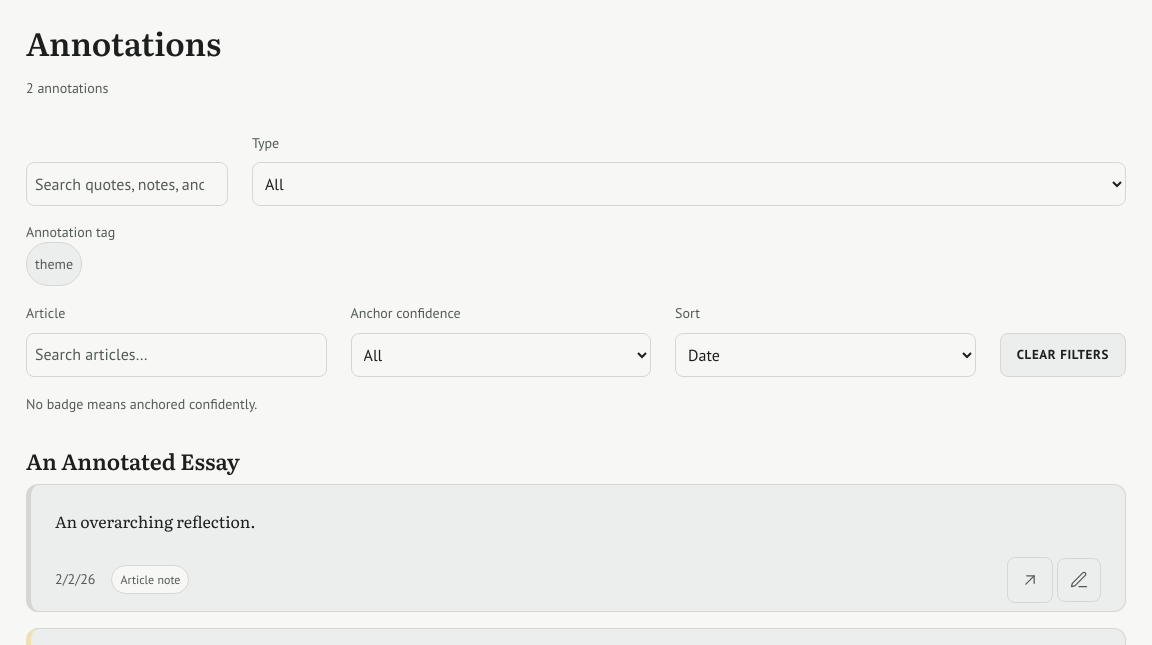
ReviewView article-note rows (issue #210) › editing opens the shared inline editor; the URL never changes; status is honest
Click the button named "Edit article note: An overarching reflection." at (1079, 580), box [1057,558,1101,602]
(page scrolled)
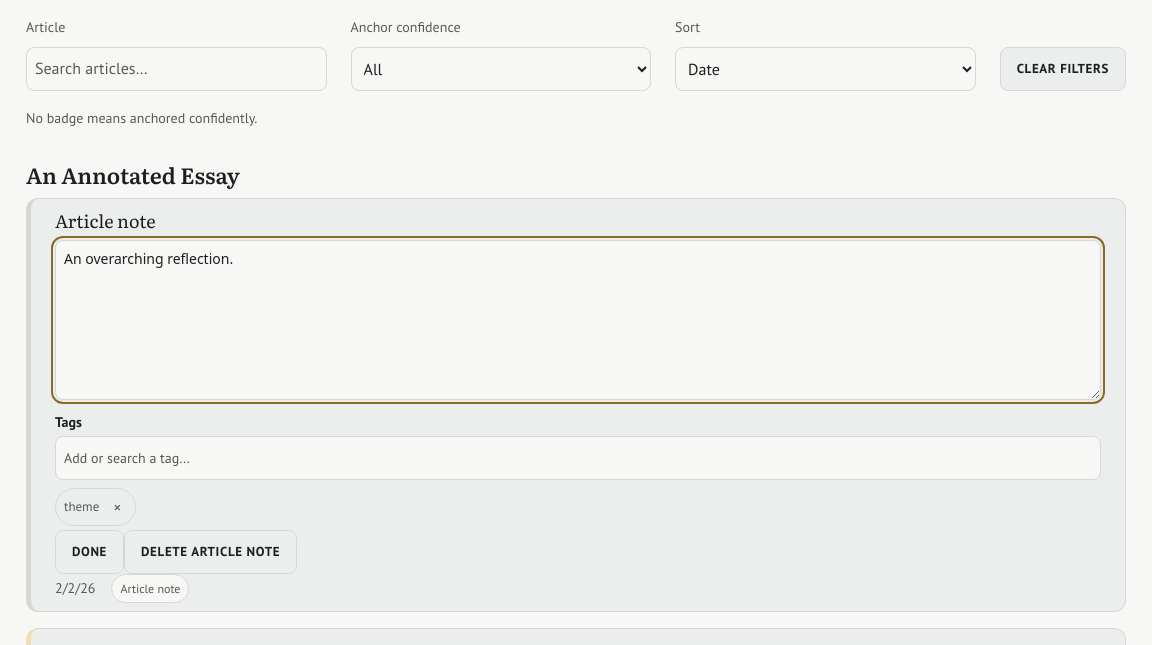
Expected: the text box labelled "Article note" holds "An overarching reflection."
Expected: the element named "Article note tags" is shown, [55,404,1101,526]
Expected: the dropdown with id "article-note-tags-input" is shown, [55,436,1101,480]
Type " More." into the text box labelled "Article note" at (578, 320), box [55,240,1101,400]
(page scrolled)
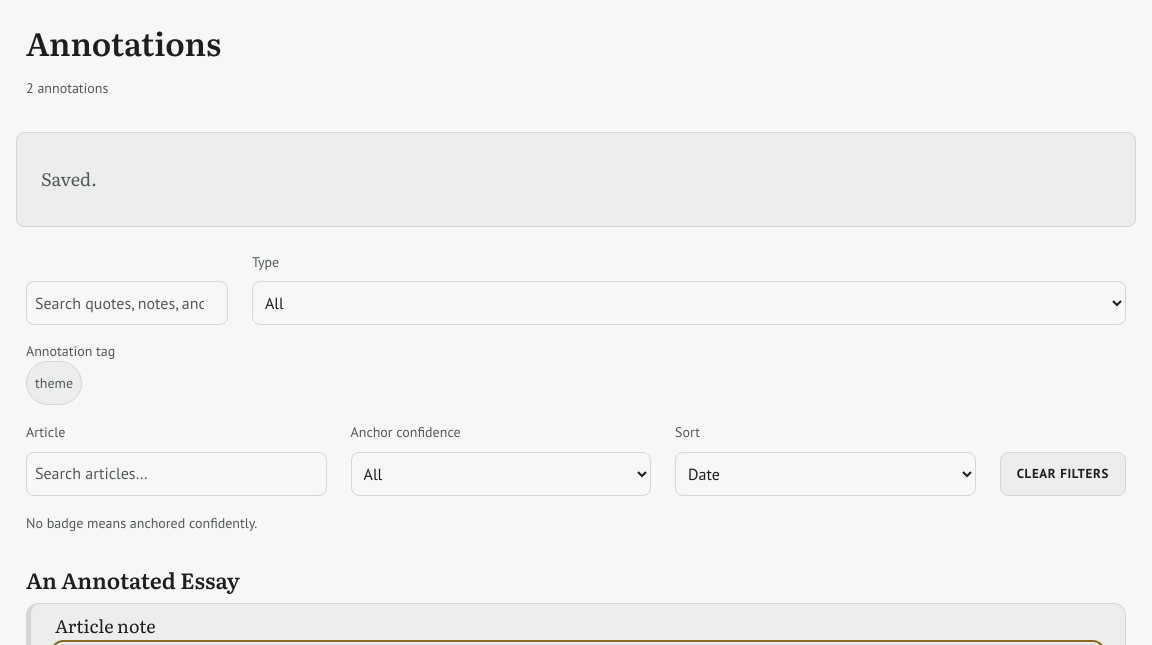
Expected: the text "Saved." is shown, [41,165,97,192]
